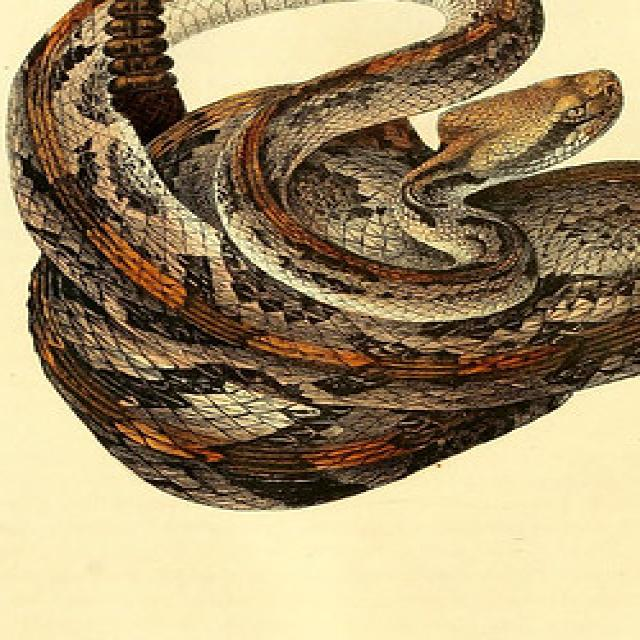Snake: (2, 0, 640, 512)
